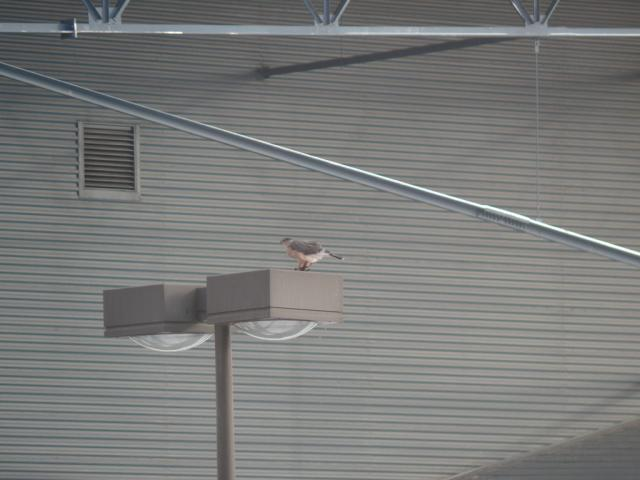Bird: (272, 242, 338, 275)
